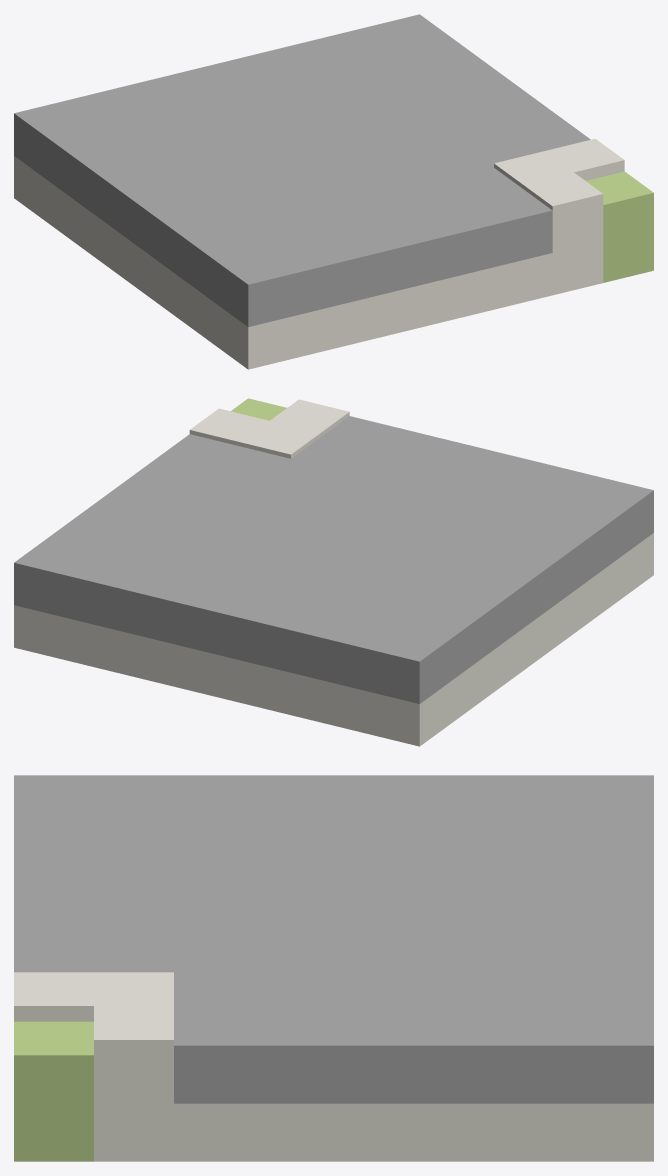
The model's file is tile175.glb.
The picture shows the model from 3 angles, top to bottom: view 1: azimuth 30°, elevation 25°; view 2: azimuth 150°, elevation 25°; view 3: azimuth 270°, elevation 25°; orthographic projection. The views are drawn at different scales.
Parts seen in each view (by area): view 1: tile175; view 2: tile175; view 3: tile175.
Boxes of the visible parts, <box> form: tile175: <box>14,14,653,369</box>; tile175: <box>14,398,653,746</box>; tile175: <box>14,775,653,1161</box>.
Size of the model in its own units: 1 by 0.21 by 1.
